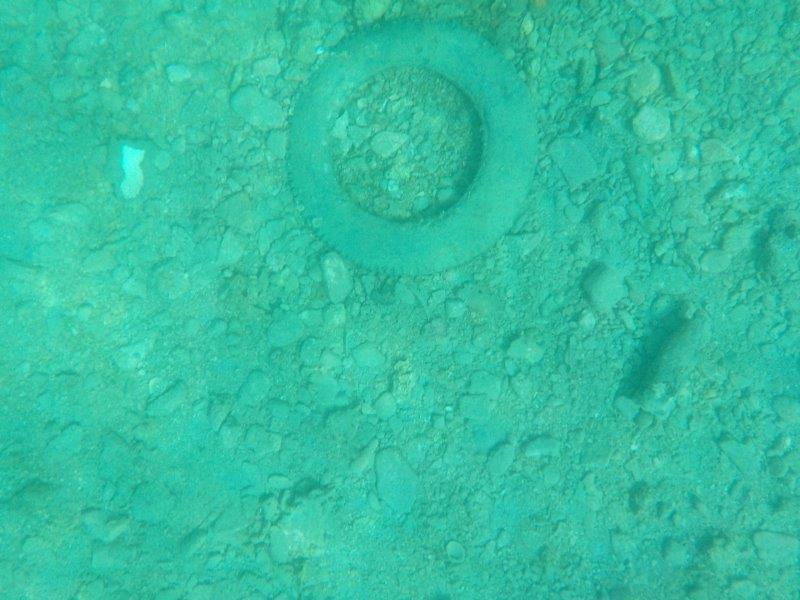bottle: (628, 304, 716, 421)
tire: (285, 15, 540, 276)
